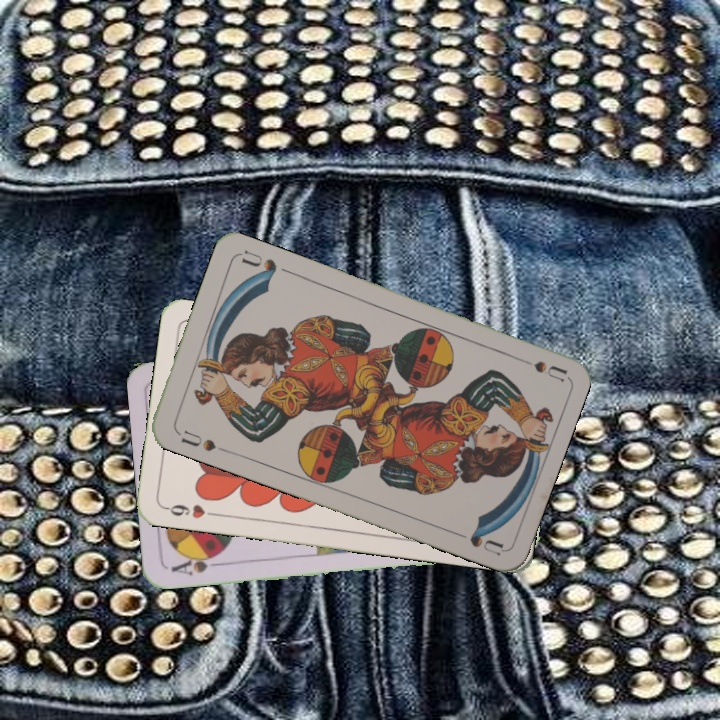H9: (160, 500, 220, 521)
SA: (167, 549, 226, 578)
SU: (509, 352, 568, 384), (173, 426, 230, 455)
